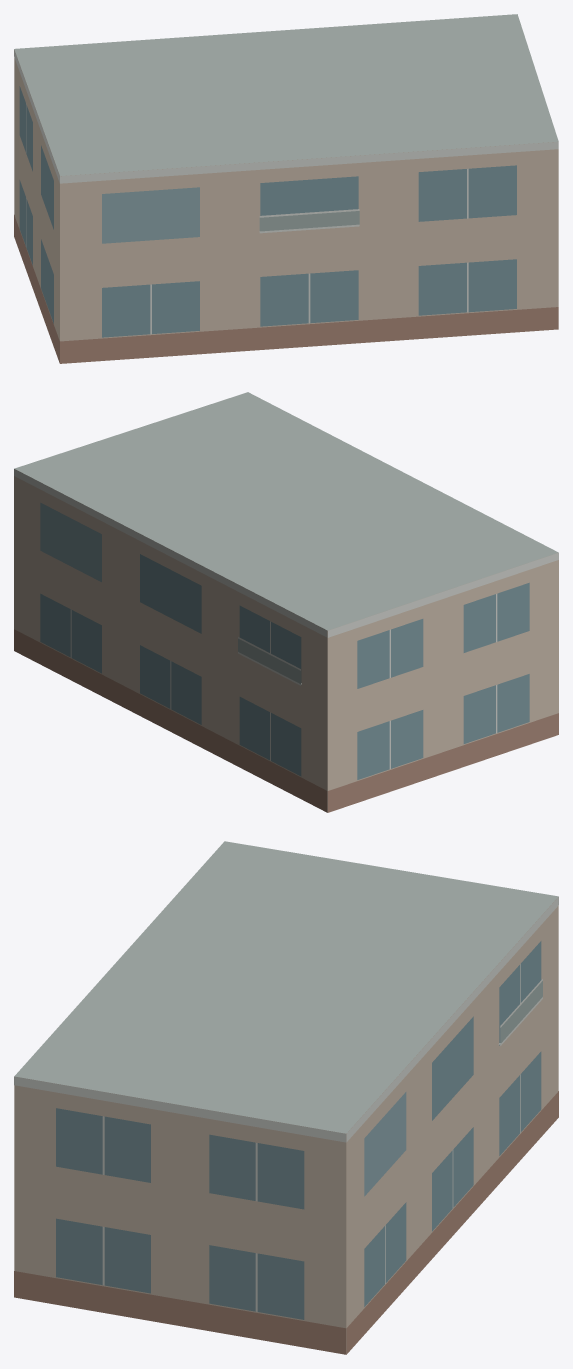
The model's file is survey-upis-32888555.glb.
The picture shows the model from 3 angles, top to bottom: view 1: azimuth 30°, elevation 25°; view 2: azimuth 150°, elevation 25°; view 3: azimuth 270°, elevation 25°; orthographic projection. The views are drawn at different scales.
Parts seen in each view (by area): view 1: survey-upis-32888555.tmp; view 2: survey-upis-32888555.tmp; view 3: survey-upis-32888555.tmp.
Boxes of the visible parts, box(x1,y1,x2,y2) form: survey-upis-32888555.tmp: box(14, 14, 558, 363); survey-upis-32888555.tmp: box(14, 392, 558, 812); survey-upis-32888555.tmp: box(14, 841, 558, 1354).
Size of the model in its own units: 17.33 by 6.1 by 13.64.
